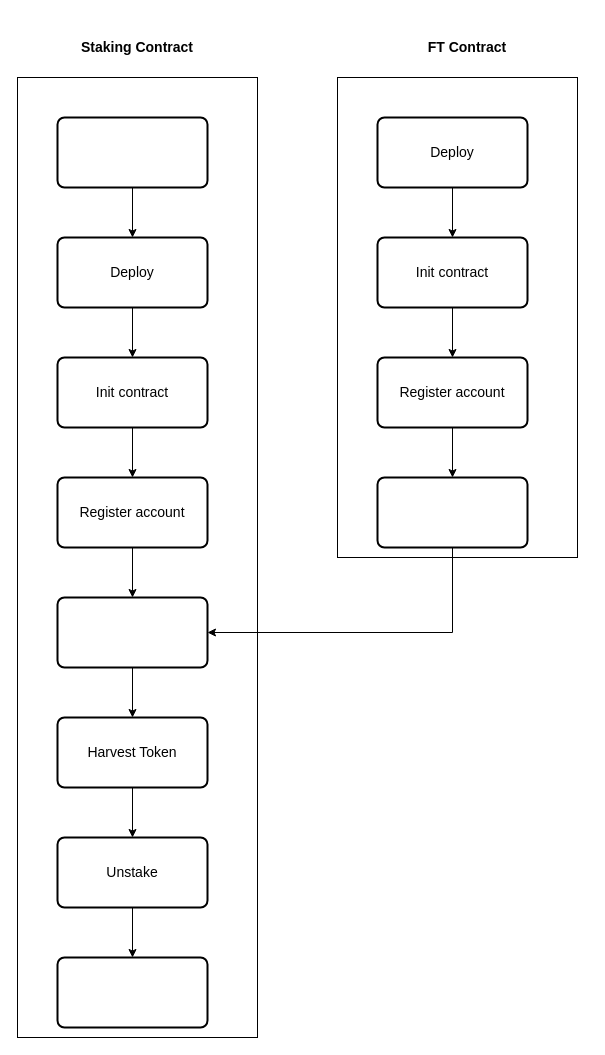
Some shapes in this 605 by 1055 pixel diagram are drawn without their labels. Here are the shapes that lost their labels. From the top down, the centre of each, then its label:
At point 132,152: "Build Smart contract".
At point 452,512: "Claim token to account".
At point 132,632: "Staking token".
At point 132,992: "Withdraw".
